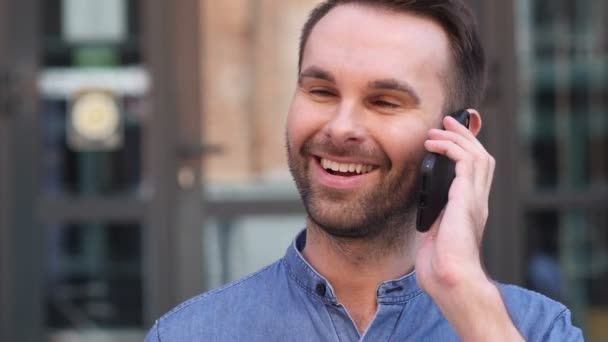phone: (421, 112, 471, 223)
talk: (288, 60, 497, 311)
